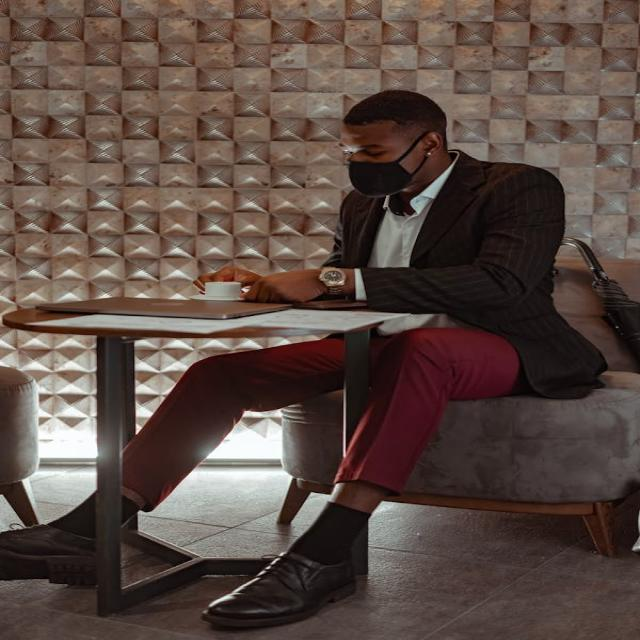mask: (325, 95, 449, 197)
